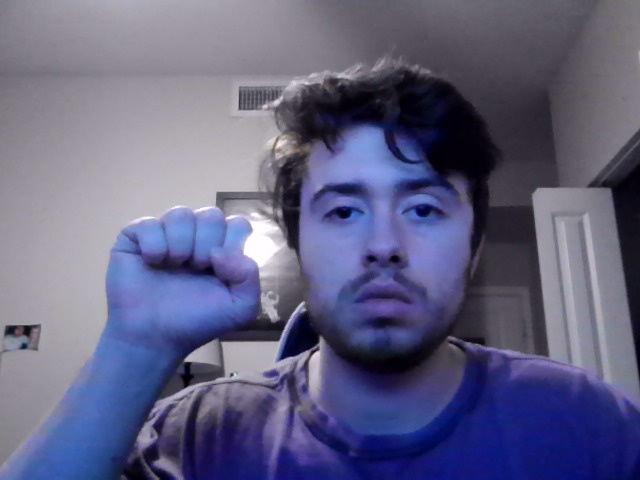e: (105, 205, 262, 350)
